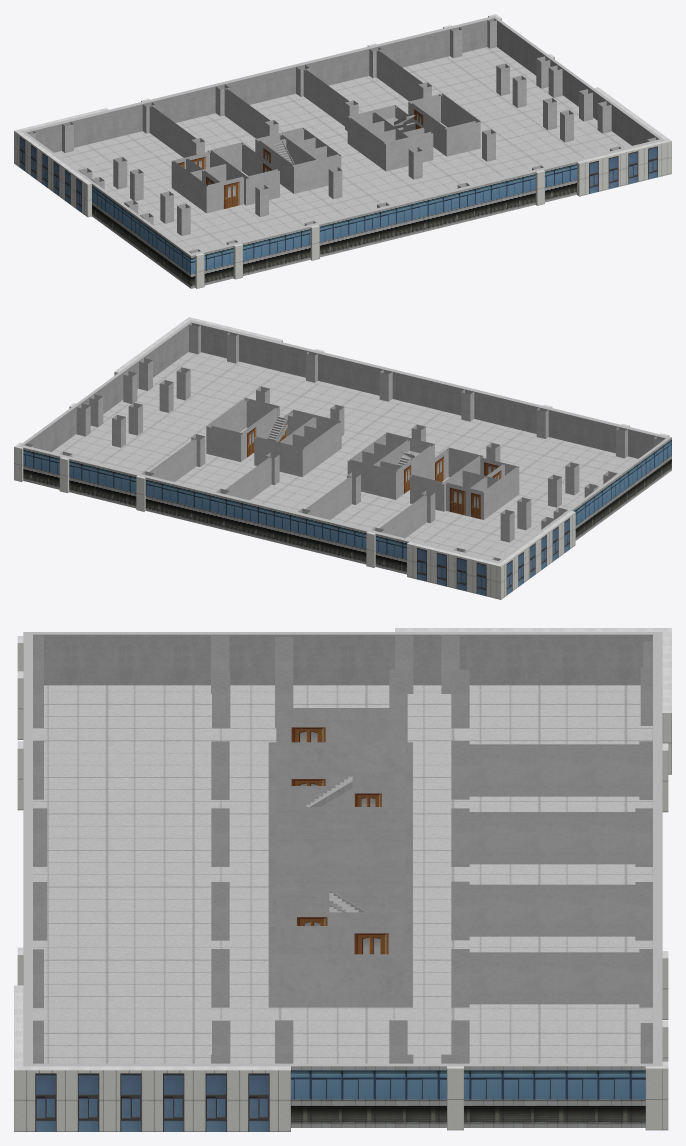
3 renders of one model, top to bottom at view 1: azimuth 30°, elevation 25°; view 2: azimuth 150°, elevation 25°; view 3: azimuth 270°, elevation 25°, orthographic. The views are drawn at different scales.
Parts seen in each view (by area): view 1: 2c; view 2: 2c; view 3: 2c.
Part boxes in pixels (left/top/right/bottom): 2c: left=14, top=14, right=671, bottom=288; 2c: left=14, top=317, right=671, bottom=599; 2c: left=14, top=628, right=671, bottom=1131.
Size of the model in its own units: 56.65 by 4.55 by 35.63.
12 materials, 10 textured.
